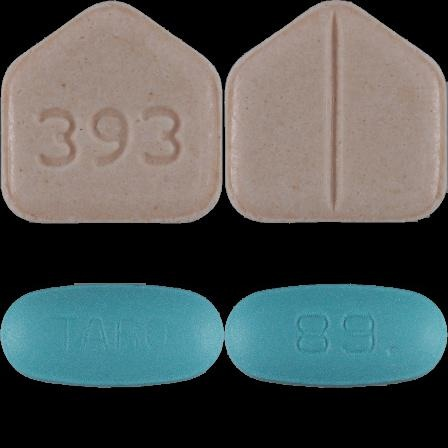54868-4055: (0, 0, 224, 224)
